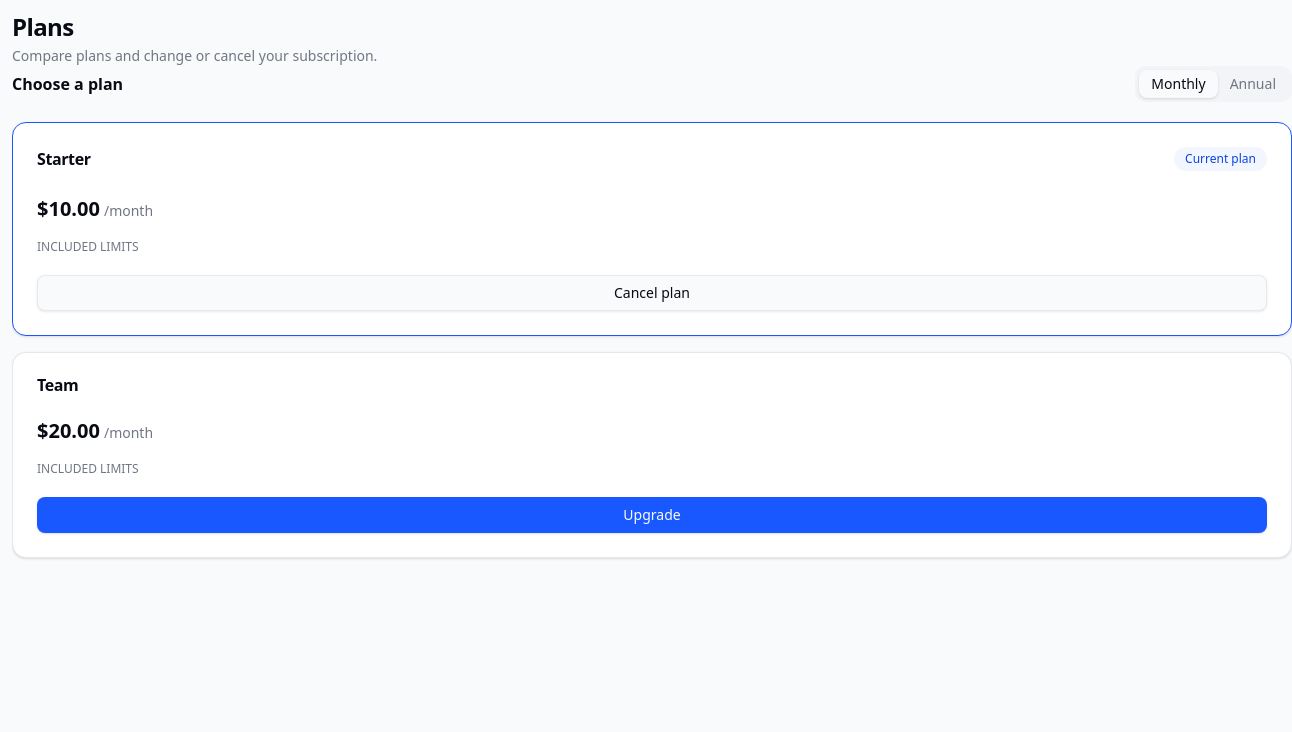
Test: BillingPlansPage (Phase 3) › defaults to monthly prices and switches to annual on the toggle
Expected: the text with test id "plan-price-team" reads "$20.00", [37,417,100,444]
Click the tab with test id "interval-annual" at (1253, 84), box [1218,70,1288,98]
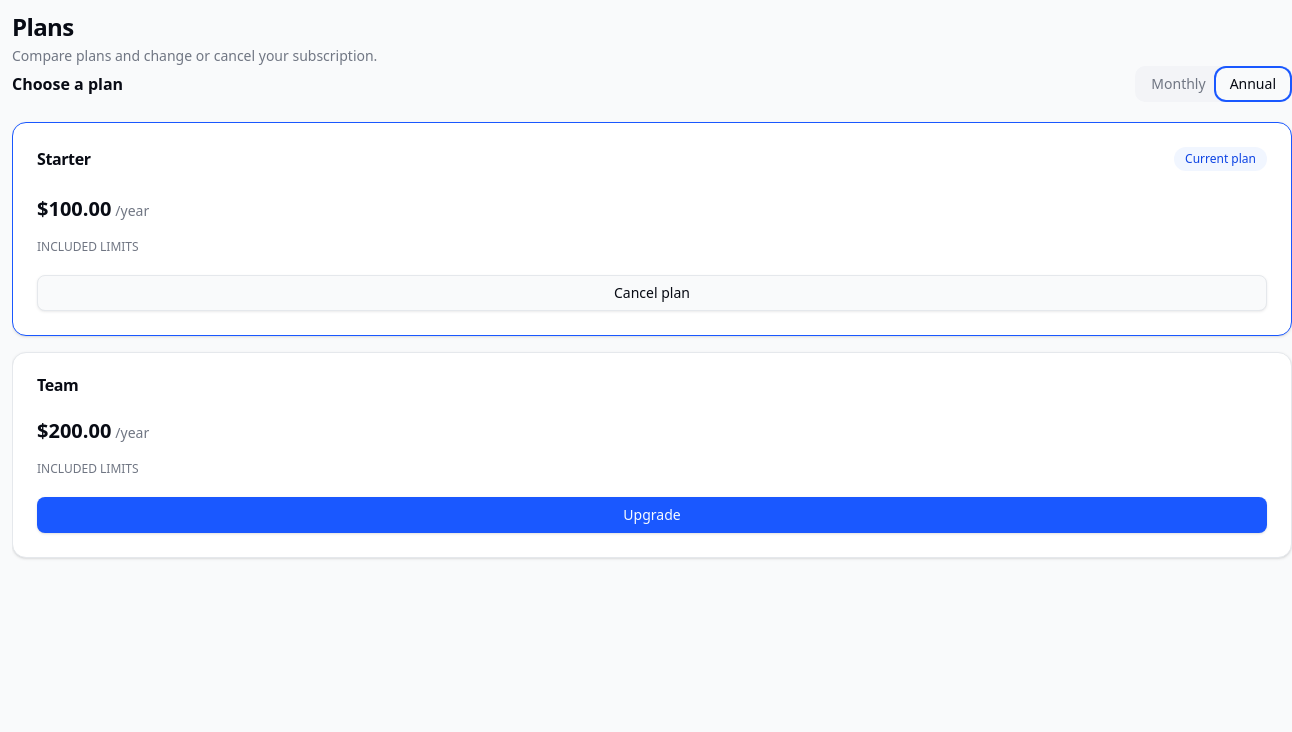
Expected: the text with test id "plan-price-team" reads "$200.00", [37,417,111,444]
